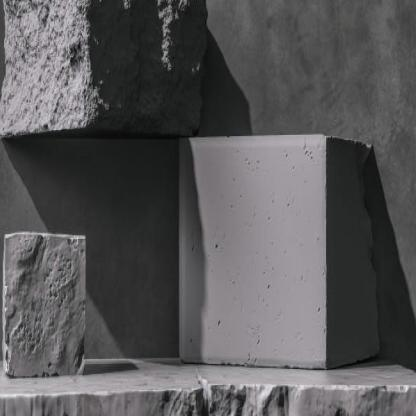Metamorphic_Marble: (173, 119, 374, 373), (1, 0, 210, 136), (1, 220, 90, 380)
